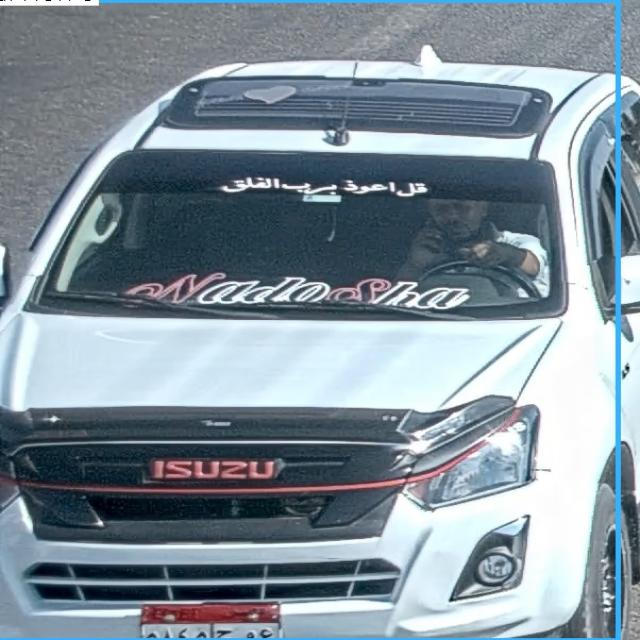windshield: (37, 153, 560, 325)
